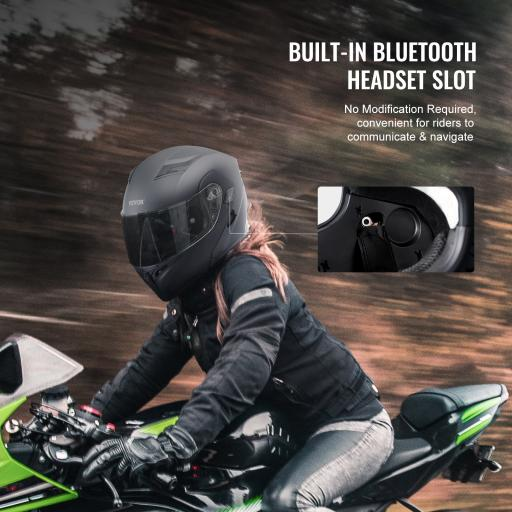helmet-detection: (114, 132, 258, 308), (118, 134, 253, 296)
